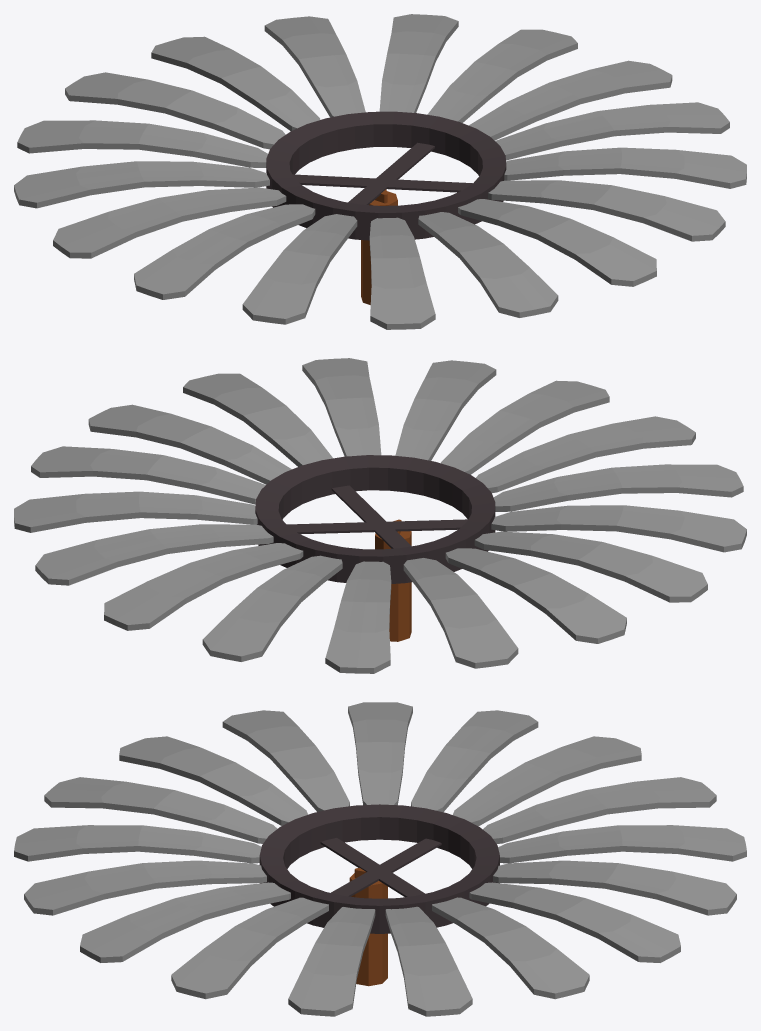
File: Blades.fbx
The picture shows the model from 3 angles, top to bottom: view 1: azimuth 30°, elevation 25°; view 2: azimuth 150°, elevation 25°; view 3: azimuth 270°, elevation 25°; orthographic projection.
Visible parts, largest first — view 1: windmill.023; view 2: windmill.023; view 3: windmill.023.
Boxes of the visible parts, x1,y1,x2,y2 form: windmill.023: [14, 14, 746, 329]; windmill.023: [14, 358, 746, 673]; windmill.023: [14, 702, 746, 1016].
Size of the model in its own units: 6.19 by 1.28 by 6.21.
